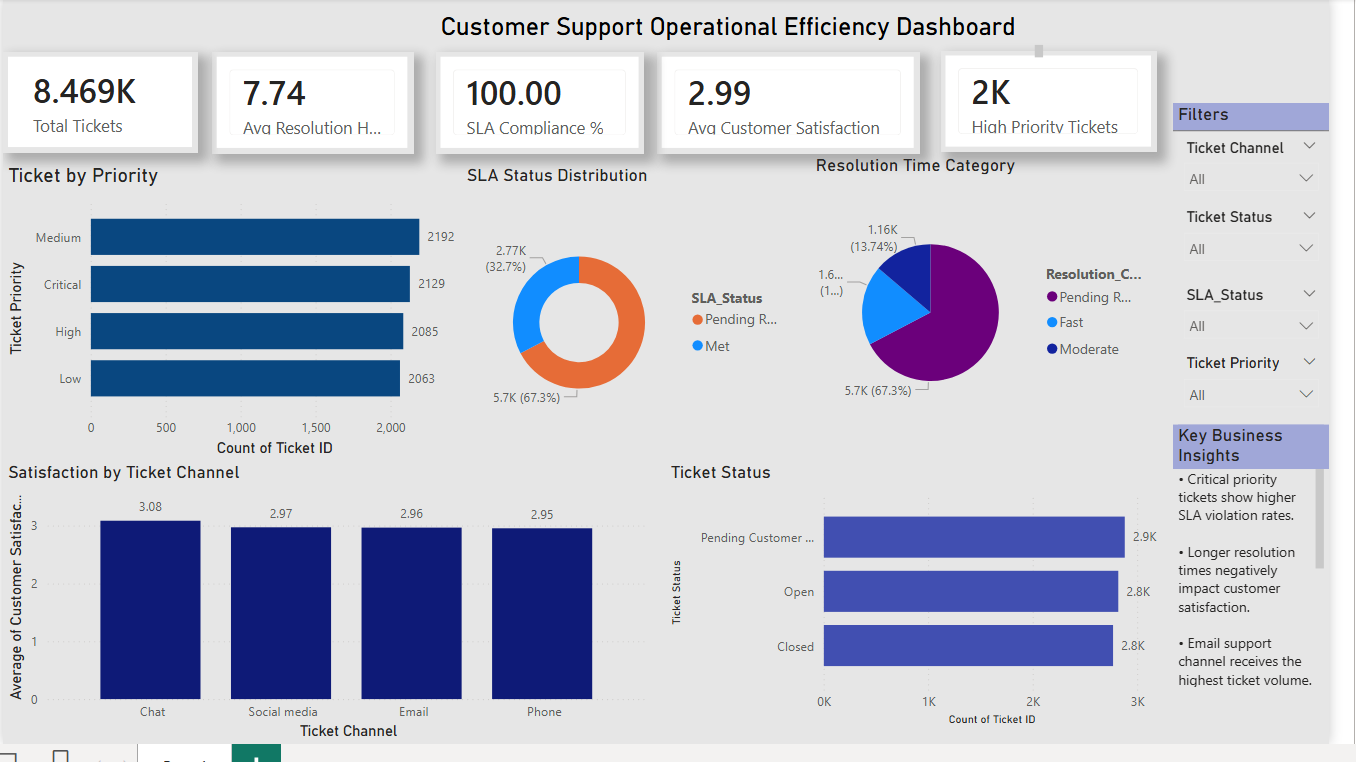

The dashboard page shown, as its layout file describes it:
{"tool":"powerbi","page":{"name":"Page 1","canvas":[1280,720],"ordinal":0},"visuals":[{"type":"cardVisual","fields":{"Data":["Shee1t.Total Tickets"]},"box":[0,52.1,188,97.4],"z":0},{"type":"cardVisual","fields":{"Data":["Shee1t.Avg Customer Satisfaction"]},"box":[631.2,52.1,253.9,98.8],"z":1000},{"type":"cardVisual","fields":{"Data":["Shee1t.SLA Compliance %"]},"box":[417.2,52.1,201.7,98.8],"z":2000},{"type":"cardVisual","fields":{"Data":["Shee1t.High Priority Tickets"]},"box":[904.3,50.8,208.6,98.8],"z":3000},{"type":"cardVisual","fields":{"Data":["Shee1t.Avg Resolution Hours"]},"box":[201.7,52.1,194.9,98.8],"z":4000},{"type":"clusteredBarChart","title":"Ticket by Priority","fields":{"Category":["Shee1t.Ticket Priority"],"Y":["CountNonNull(Shee1t.Ticket ID)"]},"box":[0,160.5,459.7,286.8],"z":5000},{"type":"donutChart","title":"SLA Status Distribution","fields":{"Category":["Shee1t.SLA_Status"],"Y":["CountNonNull(Shee1t.Ticket ID)"]},"box":[443.2,160.5,319.7,286.8],"z":6000},{"type":"pieChart","title":"Resolution Time Category","fields":{"Category":["Shee1t.Resolution_Category"],"Y":["CountNonNull(Shee1t.Ticket ID)"]},"box":[779.4,150.9,328,286.8],"z":7000},{"type":"clusteredColumnChart","title":"Satisfaction by Ticket Channel","fields":{"Y":["Avg(Shee1t.Customer Satisfaction Rating)"],"Category":["Shee1t.Ticket Channel"]},"box":[0,447.3,628.5,273.1],"z":8000},{"type":"barChart","title":"Ticket Status","fields":{"Category":["Shee1t.Ticket Status"],"Y":["CountNonNull(Shee1t.Ticket ID)"]},"box":[639.5,447.3,489.9,259.3],"z":9000},{"type":"slicer","title":"Filters ","fields":{"Values":["Shee1t.Ticket Channel"]},"box":[1129.3,101.5,150.9,96.1],"z":10000},{"type":"slicer","fields":{"Values":["Shee1t.Ticket Priority"]},"box":[1129.3,338.9,150.9,72.7],"z":11000},{"type":"slicer","fields":{"Values":["Shee1t.Ticket Status"]},"box":[1129.3,197.6,150.9,75.5],"z":12000},{"type":"slicer","fields":{"Values":["Shee1t.SLA_Status"]},"box":[1129.3,273.1,150.9,61.7],"z":13000},{"type":"textbox","title":"Key Business Insights","box":[1129.2,411.4,150.8,258.2],"z":14000},{"type":"textbox","title":"Customer Support Operational Efficiency Dashboard","box":[417.2,13.7,591.4,49.4],"z":15000}]}

Visuals, with their boxes in screenshot pixels (x1, y1, x2, y2), scaled from the page's 1280x720 canvas onto the 1356x762 screenshot:
cardVisual - Shee1t.Total Tickets: x1=0 y1=55 x2=199 y2=158
cardVisual - Shee1t.Avg Customer Satisfaction: x1=669 y1=55 x2=938 y2=160
cardVisual - Shee1t.SLA Compliance %: x1=442 y1=55 x2=656 y2=160
cardVisual - Shee1t.High Priority Tickets: x1=958 y1=54 x2=1179 y2=158
cardVisual - Shee1t.Avg Resolution Hours: x1=214 y1=55 x2=420 y2=160
"Ticket by Priority" clusteredBarChart: x1=0 y1=170 x2=487 y2=473
"SLA Status Distribution" donutChart: x1=470 y1=170 x2=808 y2=473
"Resolution Time Category" pieChart: x1=826 y1=160 x2=1173 y2=463
"Satisfaction by Ticket Channel" clusteredColumnChart: x1=0 y1=473 x2=666 y2=761
"Ticket Status" barChart: x1=677 y1=473 x2=1196 y2=748
"Filters " slicer: x1=1196 y1=107 x2=1355 y2=209
slicer - Shee1t.Ticket Priority: x1=1196 y1=359 x2=1355 y2=436
slicer - Shee1t.Ticket Status: x1=1196 y1=209 x2=1355 y2=289
slicer - Shee1t.SLA_Status: x1=1196 y1=289 x2=1355 y2=354
"Key Business Insights" textbox: x1=1196 y1=435 x2=1355 y2=709
"Customer Support Operational Efficiency Dashboard" textbox: x1=442 y1=14 x2=1068 y2=67
